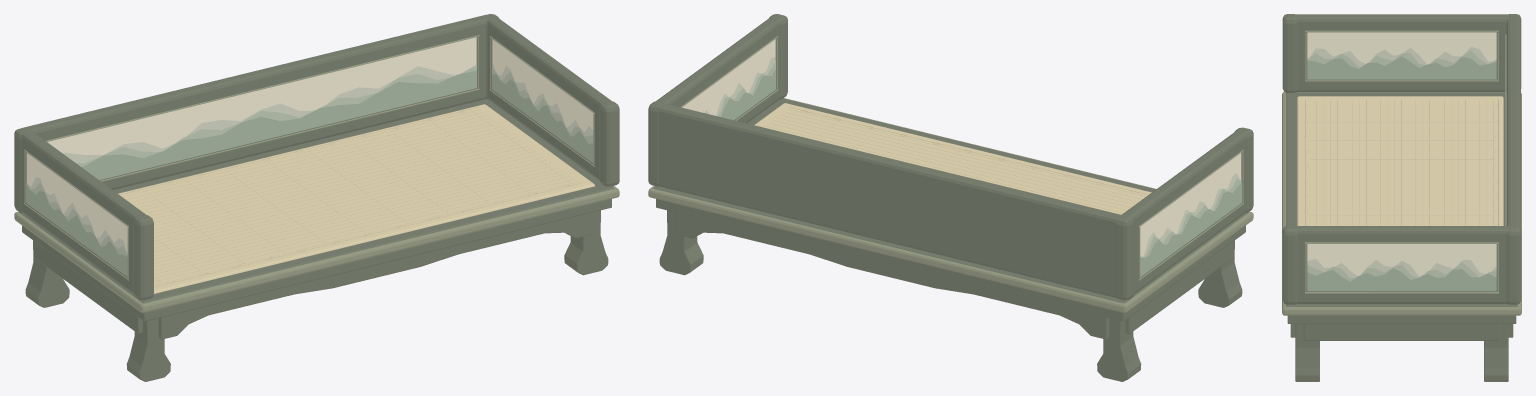
Rendered from tang-study-daybed.glb.
3 views of the same model, side by side, from view 1: azimuth 30°, elevation 25°; view 2: azimuth 150°, elevation 25°; view 3: azimuth 270°, elevation 25° (orthographic). The views are drawn at different scales.
Parts seen in each view (by area): view 1: study_daybed_furniture__frame, study_daybed_furniture__mat_fine, study_daybed_furniture__paper_fine, study_daybed_furniture__mountain_near_fine, study_daybed_furniture__weave_fine, study_daybed_furniture__moulding, study_daybed_furniture__moulding_fine, study_daybed_furniture__mountain_far_fine, study_daybed_furniture__mountain_mid_fine, study_daybed_furniture__landscape_line_fine; view 2: study_daybed_furniture__frame, study_daybed_furniture__mat_fine, study_daybed_furniture__moulding, study_daybed_furniture__paper_fine, study_daybed_furniture__weave_fine, study_daybed_furniture__mountain_near_fine, study_daybed_furniture__moulding_fine, study_daybed_furniture__mountain_far_fine, study_daybed_furniture__mountain_mid_fine; view 3: study_daybed_furniture__frame, study_daybed_furniture__mat_fine, study_daybed_furniture__paper_fine, study_daybed_furniture__mountain_near_fine, study_daybed_furniture__weave_fine, study_daybed_furniture__moulding, study_daybed_furniture__moulding_fine, study_daybed_furniture__mountain_far_fine, study_daybed_furniture__mountain_mid_fine, study_daybed_furniture__landscape_line_fine.
Part boxes in pixels (box(x1,y1,x2,y2)): study_daybed_furniture__frame: box(14, 14, 619, 381); study_daybed_furniture__mat_fine: box(118, 104, 594, 293); study_daybed_furniture__paper_fine: box(26, 37, 593, 254); study_daybed_furniture__mountain_near_fine: box(26, 71, 593, 276); study_daybed_furniture__weave_fine: box(119, 107, 581, 287); study_daybed_furniture__moulding: box(14, 186, 619, 312); study_daybed_furniture__moulding_fine: box(24, 35, 594, 280); study_daybed_furniture__mountain_far_fine: box(28, 63, 593, 252); study_daybed_furniture__mountain_mid_fine: box(26, 65, 593, 256); study_daybed_furniture__landscape_line_fine: box(26, 70, 592, 256); study_daybed_furniture__frame: box(648, 14, 1253, 381); study_daybed_furniture__mat_fine: box(754, 103, 1151, 214); study_daybed_furniture__moulding: box(648, 98, 1253, 312); study_daybed_furniture__paper_fine: box(682, 39, 1241, 256); study_daybed_furniture__weave_fine: box(766, 107, 1148, 213); study_daybed_furniture__mountain_near_fine: box(721, 69, 1241, 276); study_daybed_furniture__moulding_fine: box(680, 36, 1243, 280); study_daybed_furniture__mountain_far_fine: box(704, 57, 1239, 257); study_daybed_furniture__mountain_mid_fine: box(718, 61, 1241, 258); study_daybed_furniture__frame: box(1282, 14, 1521, 381); study_daybed_furniture__mat_fine: box(1297, 96, 1503, 225); study_daybed_furniture__paper_fine: box(1307, 32, 1496, 276); study_daybed_furniture__mountain_near_fine: box(1307, 56, 1496, 291); study_daybed_furniture__weave_fine: box(1304, 99, 1499, 225); study_daybed_furniture__moulding: box(1282, 92, 1521, 315); study_daybed_furniture__moulding_fine: box(1305, 30, 1506, 293); study_daybed_furniture__mountain_far_fine: box(1307, 47, 1496, 278); study_daybed_furniture__mountain_mid_fine: box(1307, 51, 1496, 281); study_daybed_furniture__landscape_line_fine: box(1307, 56, 1496, 281).
Bounding box in the file's own units: 2.64 × 0.8805 × 1.22.
